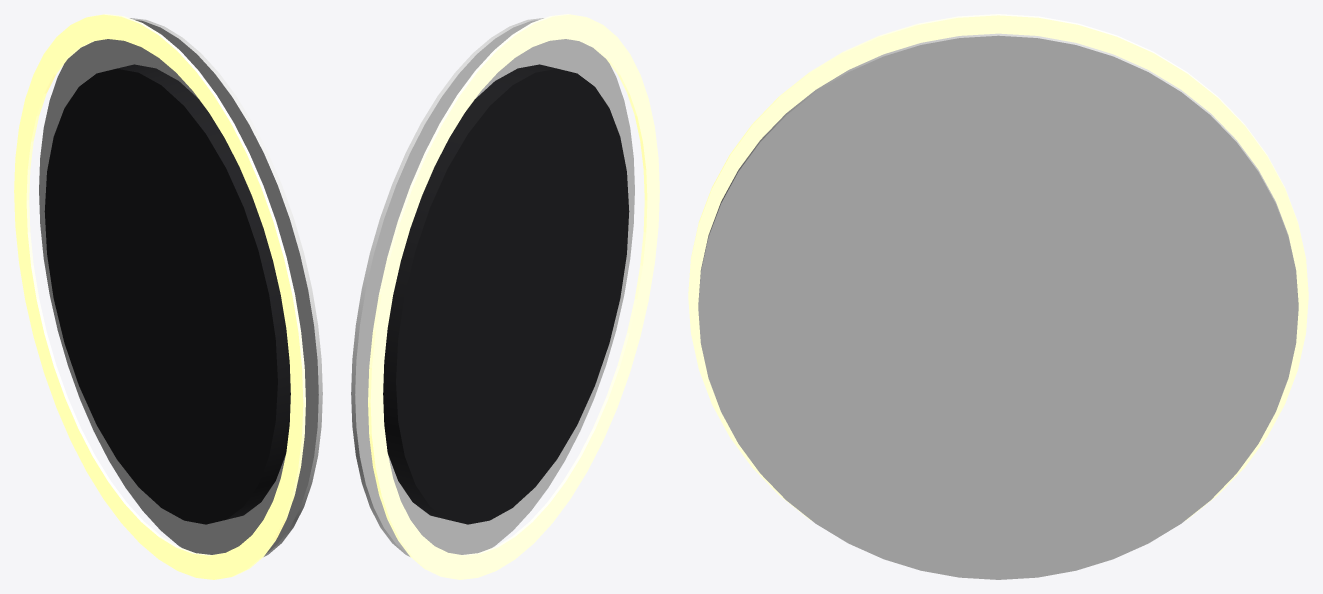
File: mirror_round.glb
3 renders of one model, left to right at view 1: azimuth 30°, elevation 25°; view 2: azimuth 150°, elevation 25°; view 3: azimuth 270°, elevation 25°, orthographic. The views are drawn at different scales.
Visible parts, largest first — view 1: Standoff_LOD0, Halo_LOD0, Glass_LOD0; view 2: Standoff_LOD0, Halo_LOD0, Glass_LOD0; view 3: Glass_LOD0, Halo_LOD0.
Boxes of the visible parts, bbox=[...] form: Standoff_LOD0: bbox=[44, 64, 290, 524]; Halo_LOD0: bbox=[14, 14, 305, 579]; Glass_LOD0: bbox=[39, 18, 322, 556]; Standoff_LOD0: bbox=[383, 64, 629, 524]; Halo_LOD0: bbox=[368, 14, 659, 579]; Glass_LOD0: bbox=[351, 18, 634, 556]; Glass_LOD0: bbox=[698, 33, 1298, 579]; Halo_LOD0: bbox=[688, 14, 1308, 521].
Size of the model in its own units: 0.036 by 0.744 by 0.744.
